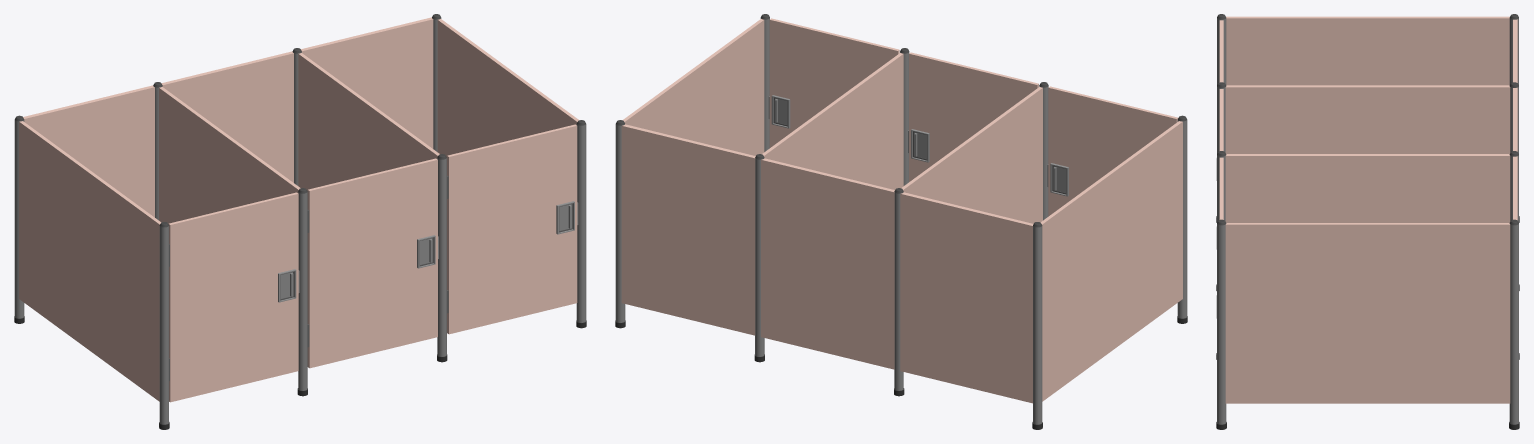
Rendered from Multiple Bathroom Stalls Pink.fbx.
3 views of the same model, side by side, from view 1: azimuth 30°, elevation 25°; view 2: azimuth 150°, elevation 25°; view 3: azimuth 270°, elevation 25° (orthographic).
Visible parts, largest first — view 1: Multiple Bathroom Stalls Pink; view 2: Multiple Bathroom Stalls Pink; view 3: Multiple Bathroom Stalls Pink.
Boxes of the visible parts, x1=… form: Multiple Bathroom Stalls Pink: x1=14, y1=14, x2=586, y2=429; Multiple Bathroom Stalls Pink: x1=615, y1=14, x2=1187, y2=429; Multiple Bathroom Stalls Pink: x1=1216, y1=14, x2=1519, y2=429.
Bounding box in the file's own units: 468 × 215 × 286.
Materials: 1 (1 with a texture image).
